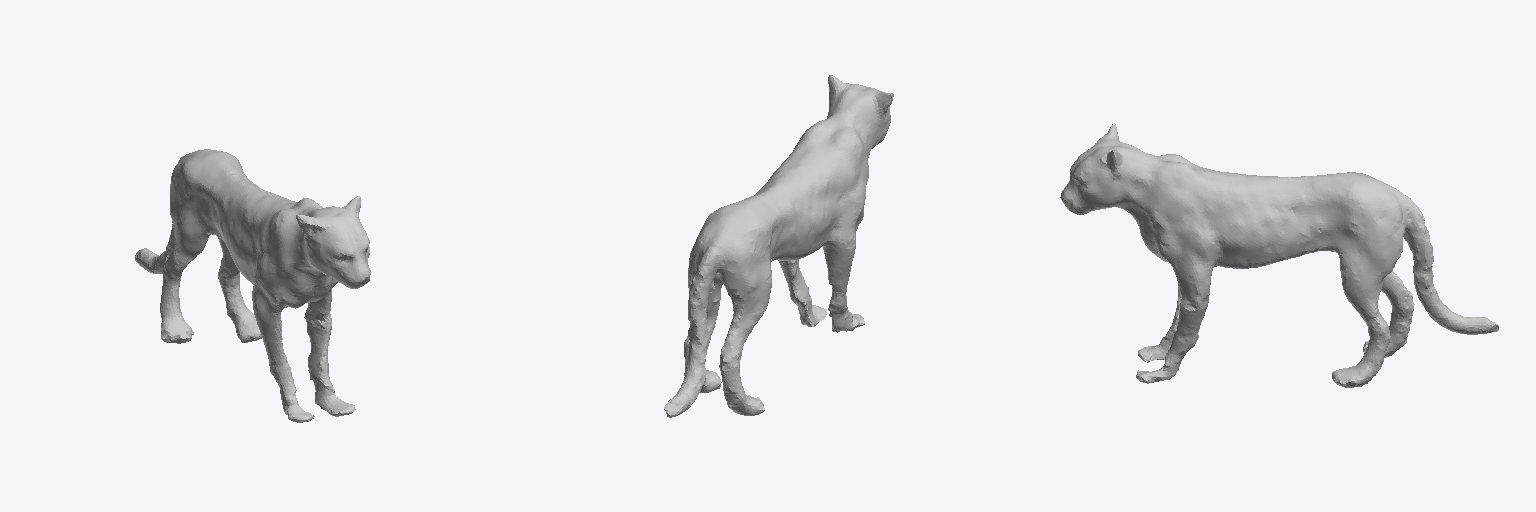
The model's file is Jaguar.obj.
The picture shows the model from 3 angles: view 1: azimuth 30°, elevation 25°; view 2: azimuth 150°, elevation 25°; view 3: azimuth 270°, elevation 25°; orthographic projection.
Parts seen in each view (by area): view 1: _1, _18, _15, default, _19, _21, _2, _4, _30, _16, _3; view 2: _18, _15, _19, _14, default, _13, _17, _12, _28, _11, _1, _10; view 3: _20, _8, _18, _6, _7, _9, _4, _5, _16, _21, _10.
Part boxes in pixels (x1,y1,x2,y2): _1: (149, 189, 351, 421); _18: (140, 149, 359, 254); _15: (137, 168, 309, 413); default: (161, 172, 317, 414); _19: (135, 189, 318, 416); _21: (271, 215, 368, 421); _2: (169, 212, 358, 417); _4: (231, 221, 370, 362); _30: (312, 323, 353, 415); _16: (153, 233, 366, 422); _3: (172, 219, 361, 340); _18: (670, 75, 893, 403); _15: (678, 98, 892, 414); _19: (668, 118, 885, 416); _14: (672, 229, 848, 410); default: (706, 110, 888, 400); _13: (691, 245, 756, 414); _17: (667, 243, 843, 417); _12: (682, 259, 739, 391); _28: (780, 260, 815, 326); _11: (686, 253, 738, 380); _1: (681, 96, 893, 406); _10: (683, 240, 709, 385); _20: (1067, 151, 1491, 386); _8: (1260, 197, 1497, 386); _18: (1093, 123, 1488, 321); _6: (1216, 185, 1380, 385); _7: (1252, 191, 1425, 304); _9: (1239, 192, 1498, 385); _4: (1061, 148, 1369, 380); _5: (1158, 232, 1398, 384); _16: (1069, 204, 1464, 387); _21: (1060, 135, 1182, 358); _10: (1377, 198, 1457, 368).
Bounding box in the file's own units: 504 × 1221 × 2108.